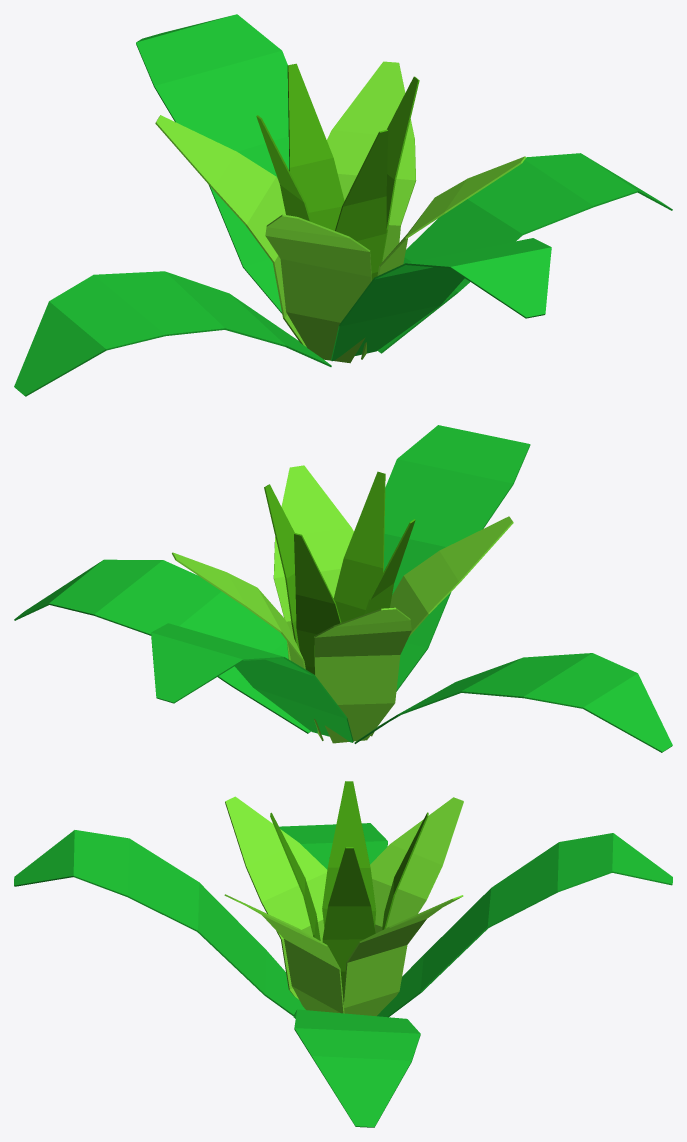
The model's file is plant1.fbx.
3 renders of one model, top to bottom at view 1: azimuth 30°, elevation 25°; view 2: azimuth 150°, elevation 25°; view 3: azimuth 270°, elevation 25°, orthographic. The views are drawn at different scales.
Parts seen in each view (by area): view 1: Plane; view 2: Plane; view 3: Plane.
Boxes of the visible parts, x1,y1,x2,y2 form: Plane: (14,14,672,396); Plane: (14,425,672,752); Plane: (14,781,672,1127).
Size of the model in its own units: 1344 by 476 by 1318.
